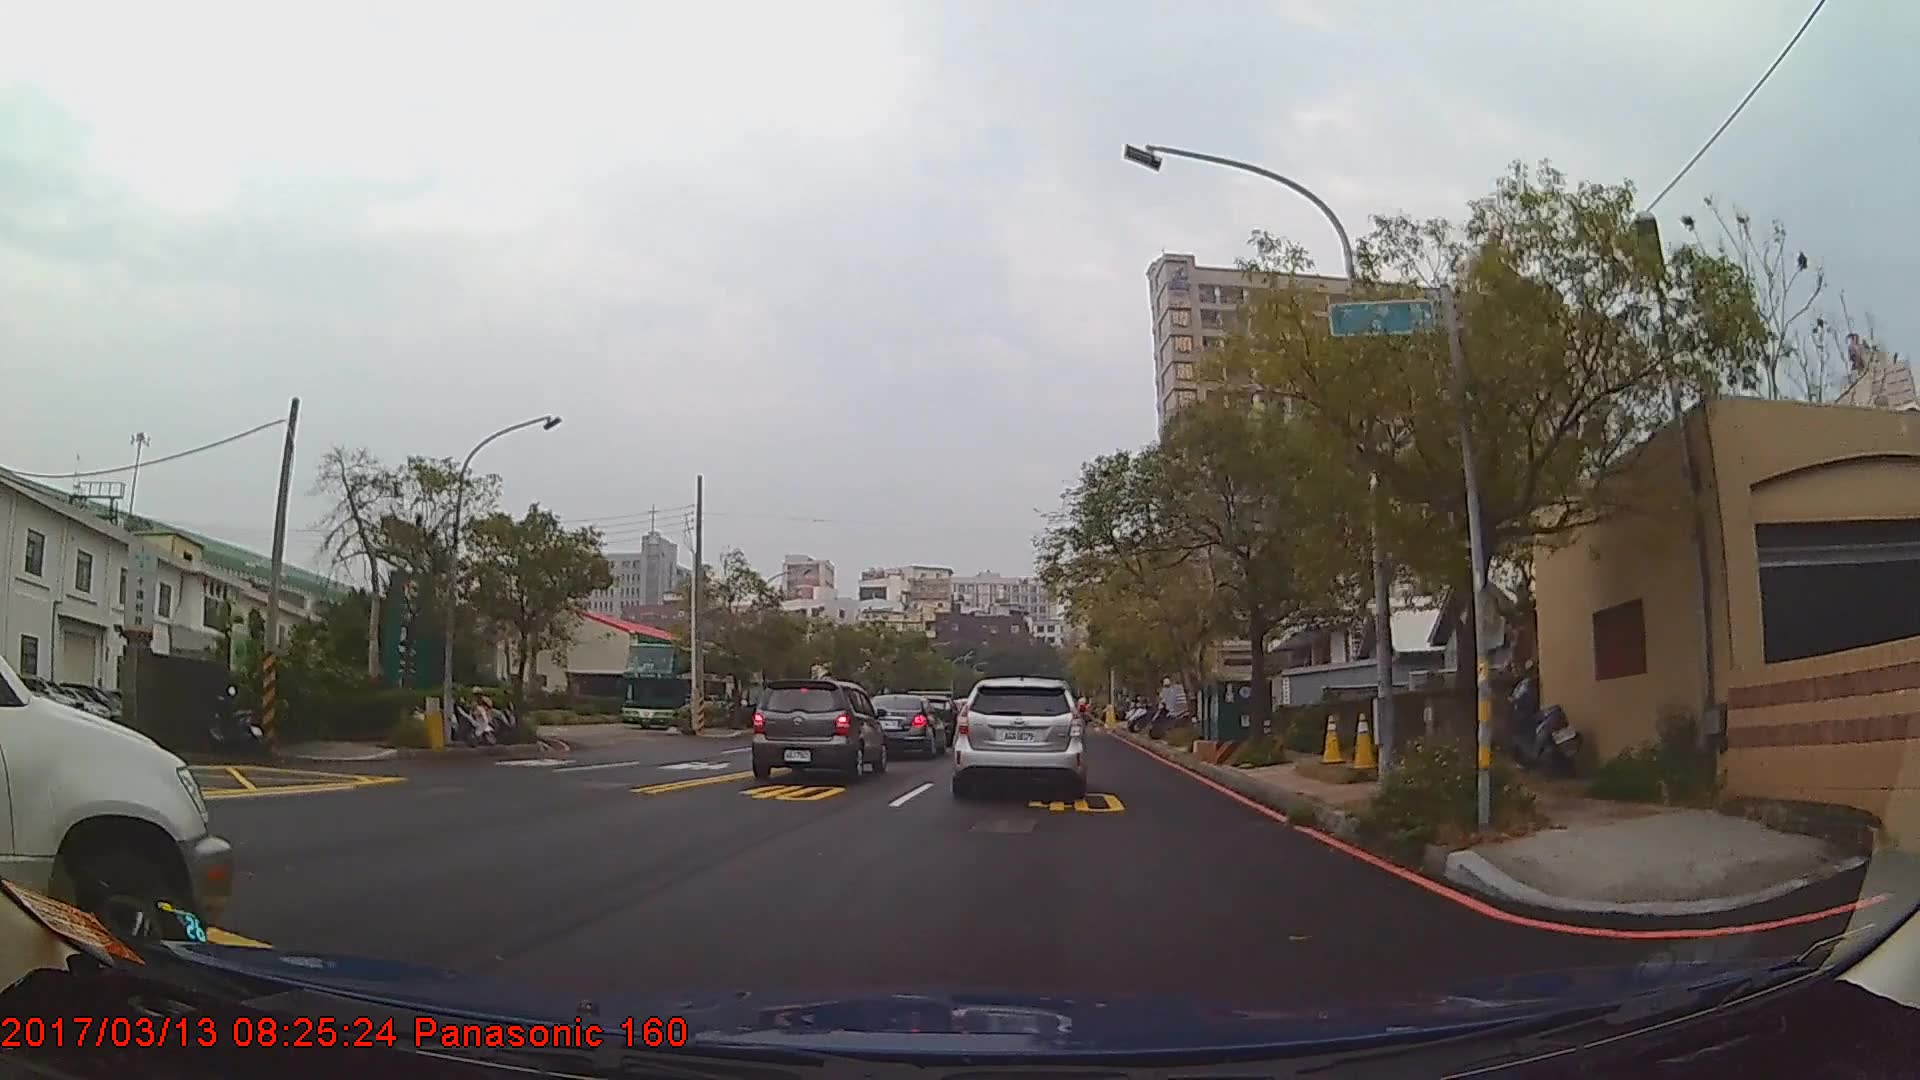vehicle: (0, 647, 229, 977), (951, 675, 1087, 799), (749, 679, 886, 778), (621, 640, 745, 728), (862, 690, 945, 758)
